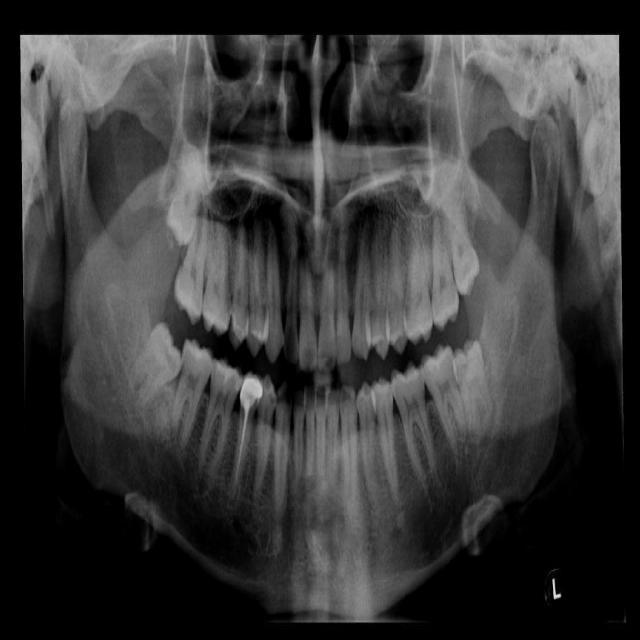3M ESPE Implant: (161, 137, 214, 248)
52: (239, 369, 264, 413)
73: (230, 398, 257, 500), (608, 605, 626, 615)
BioHorizons Implant: (431, 192, 459, 333)
BioLife Implant: (438, 170, 484, 297)
Biomet 3i Implant: (447, 335, 501, 444)
Blue Sky Bio Implant: (415, 340, 473, 462)
Caries: (168, 176, 225, 326)
Implant: (165, 335, 218, 451)
Keystone Dental Implant: (109, 319, 199, 421)
